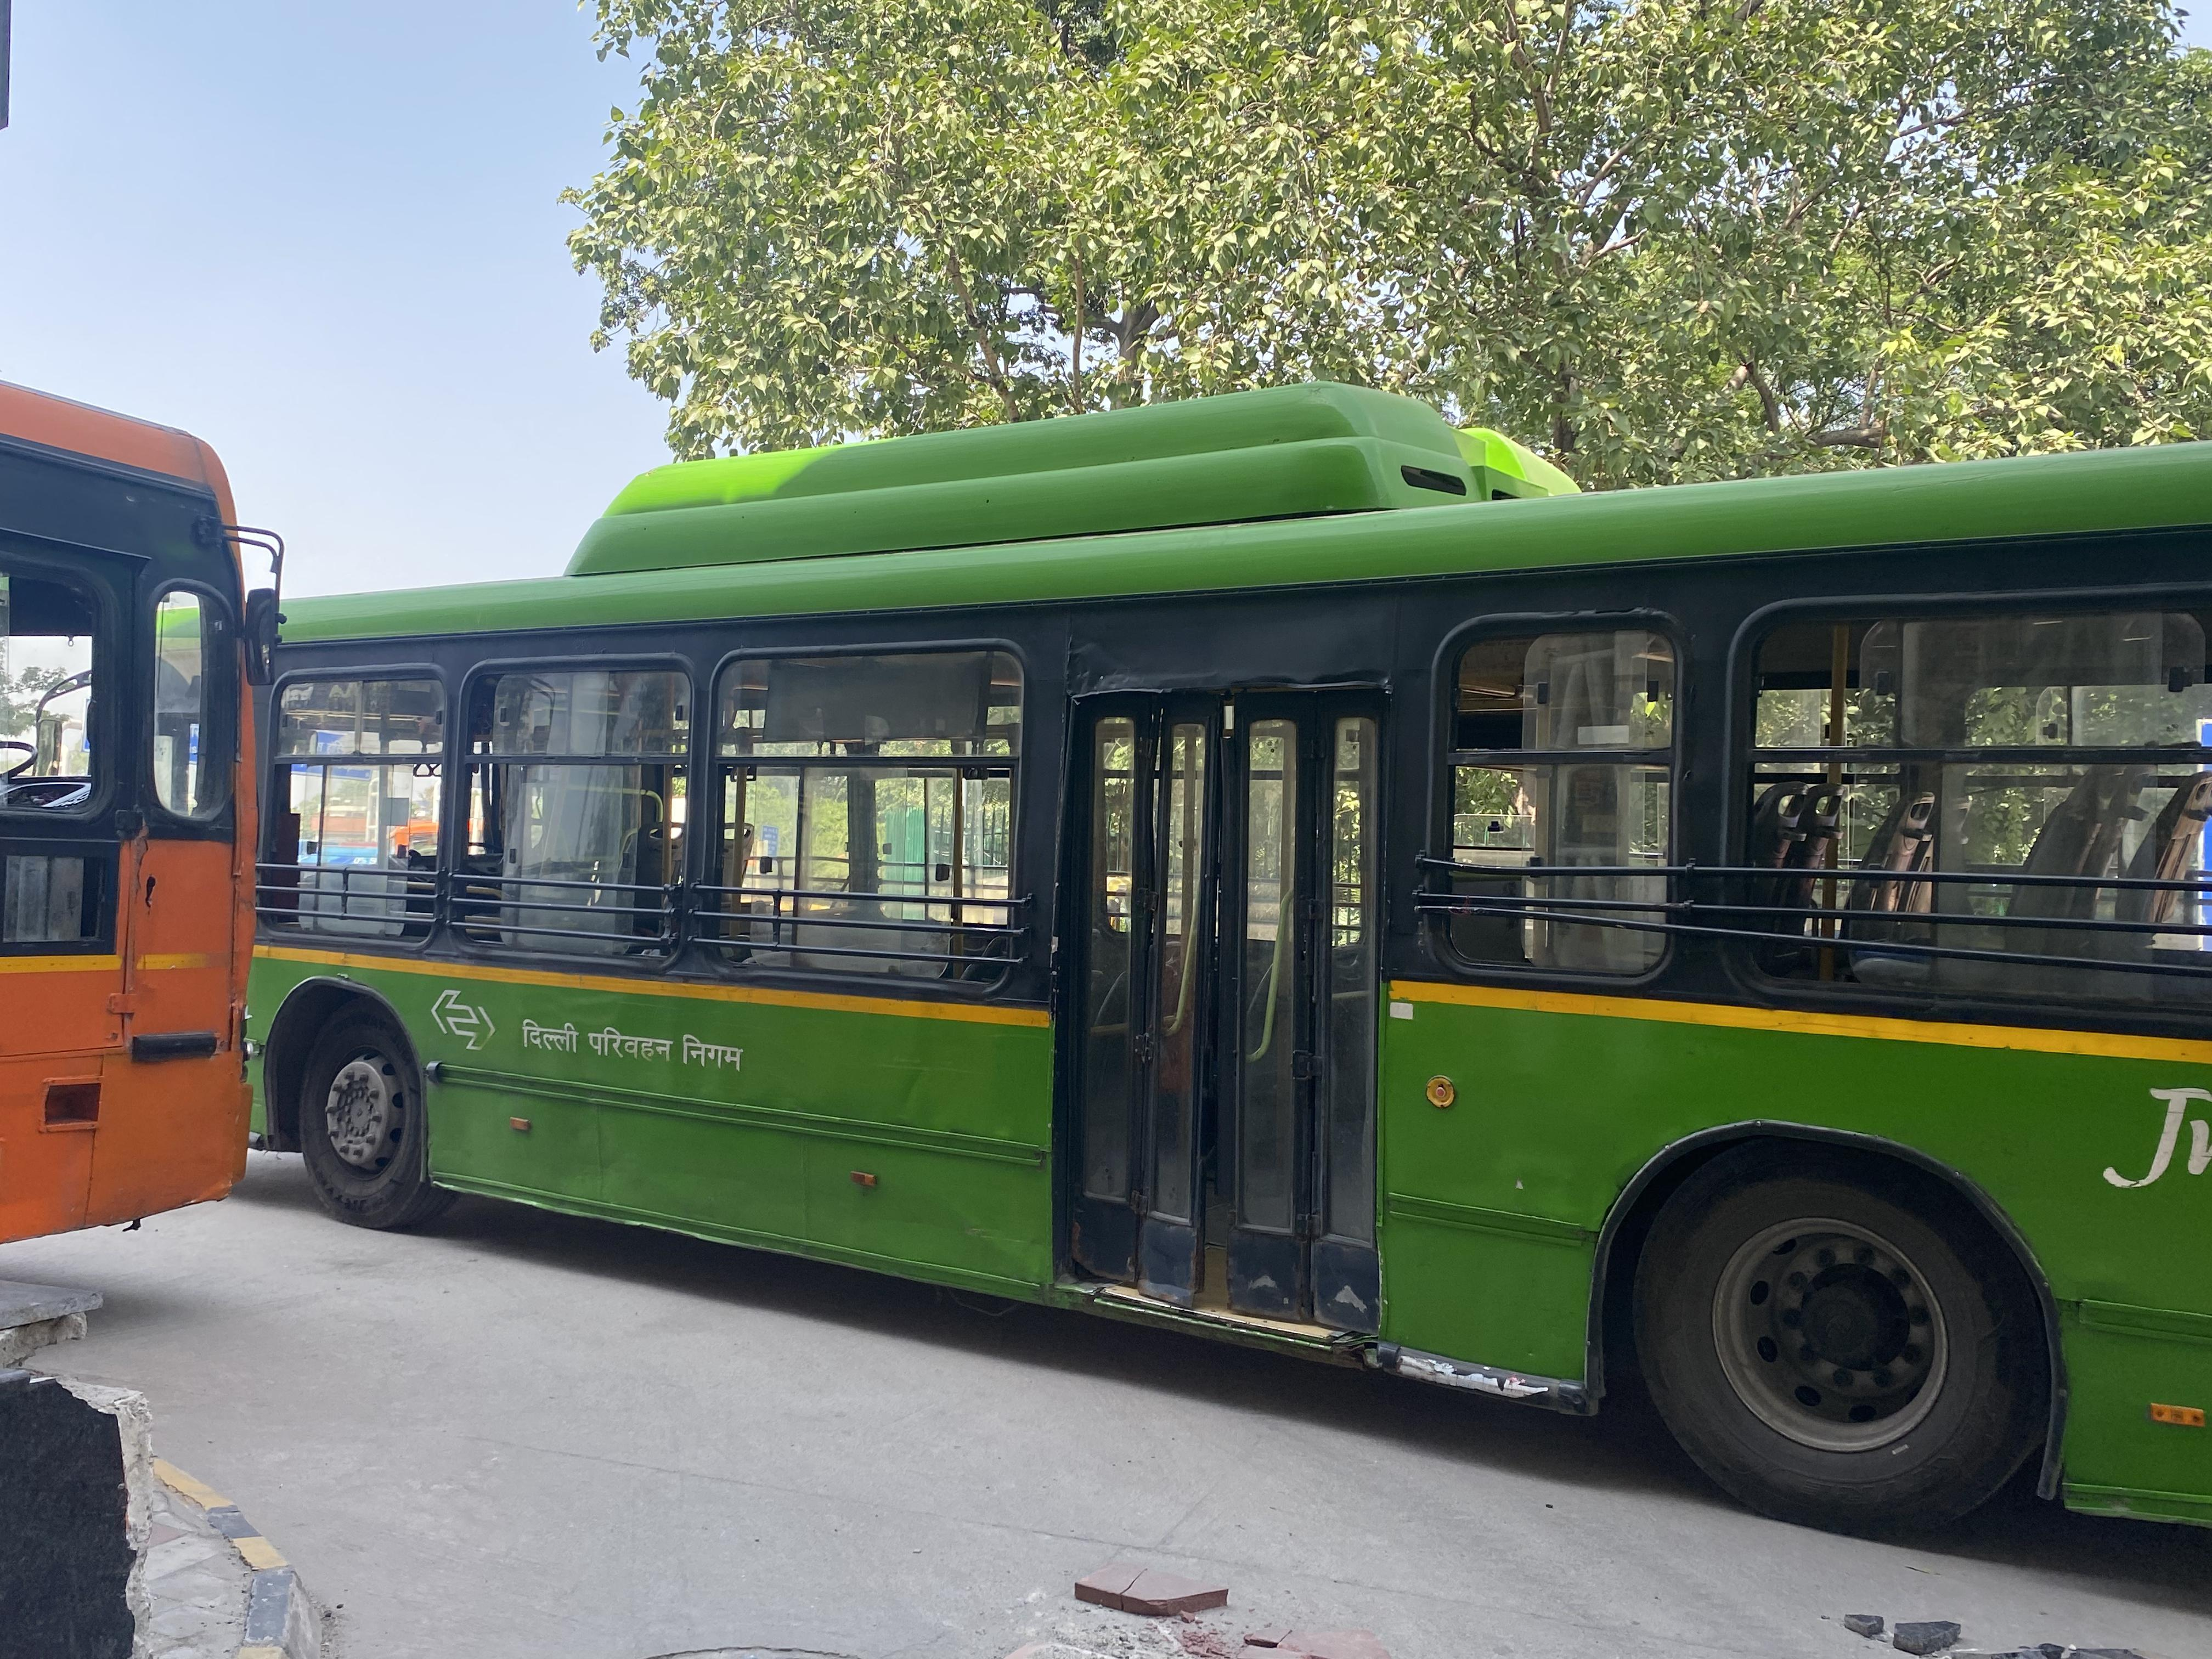Bus: (280, 378, 2212, 1514), (0, 319, 362, 1262)
